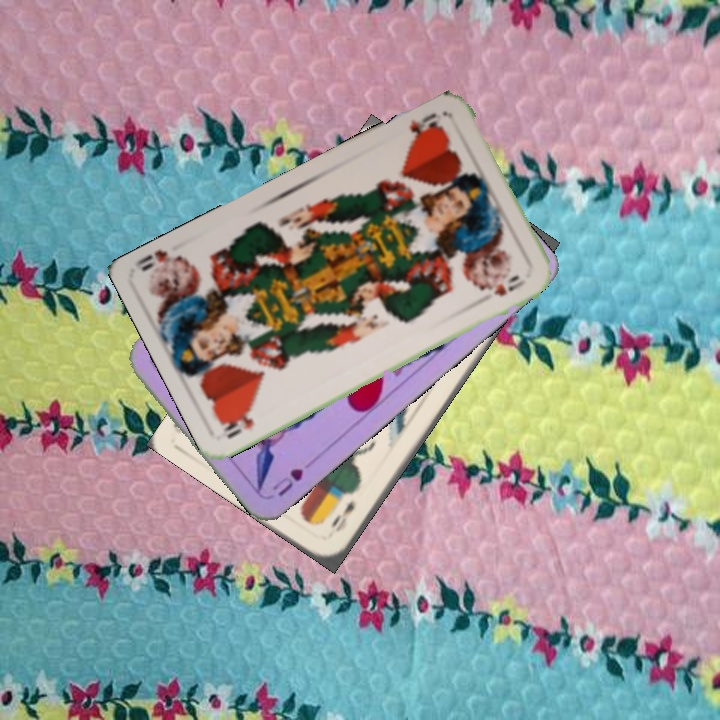EO: (326, 497, 358, 535)
HO: (405, 108, 445, 146), (217, 405, 257, 441)
HU: (268, 464, 306, 499)
